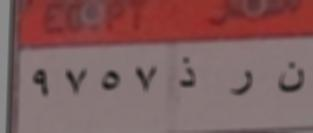5: (98, 65, 123, 97)
7: (130, 59, 161, 99), (62, 63, 91, 98)
9: (28, 66, 53, 99)
noon: (277, 59, 306, 96)
raa: (226, 65, 257, 101)
zaal: (177, 55, 200, 90)
